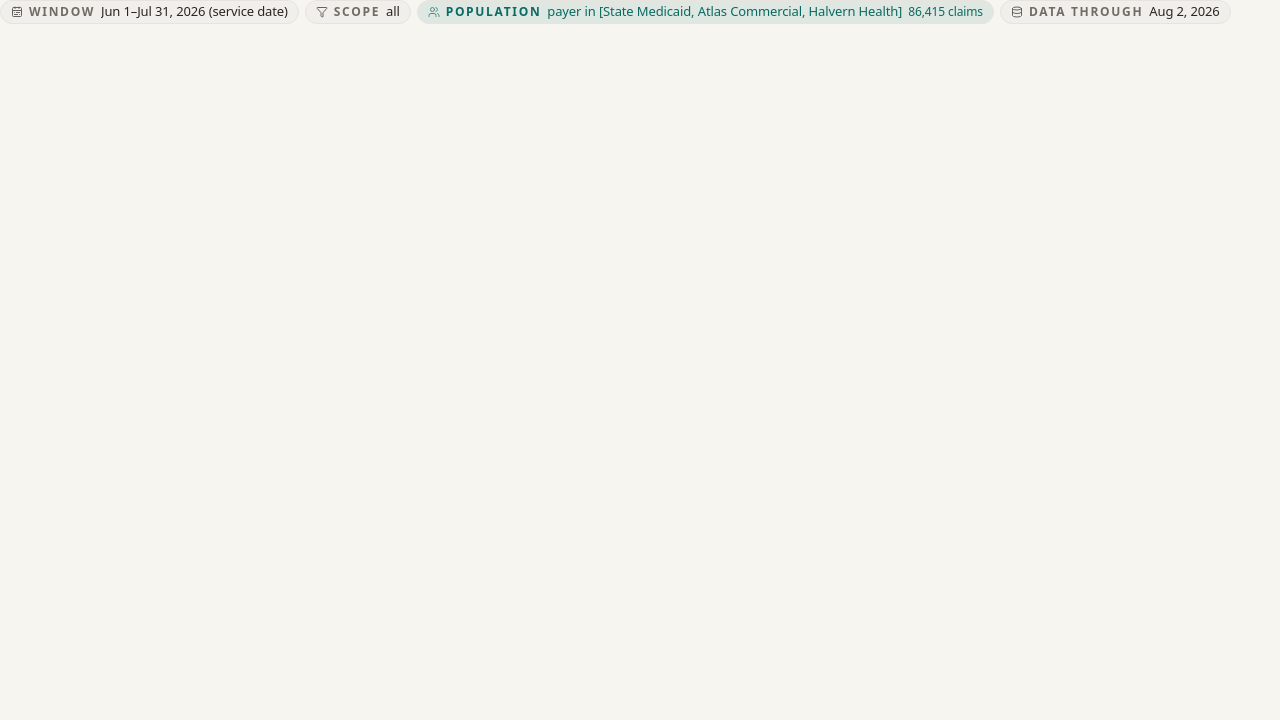
Test case: ContextHeader — the cohort chip › says an unpinned population is re-evaluated each time you ask
What coordinates should you click on to do the following:
click the button "Population"
I would click on:
 (705, 12)
Its box is [417, 0, 994, 24].
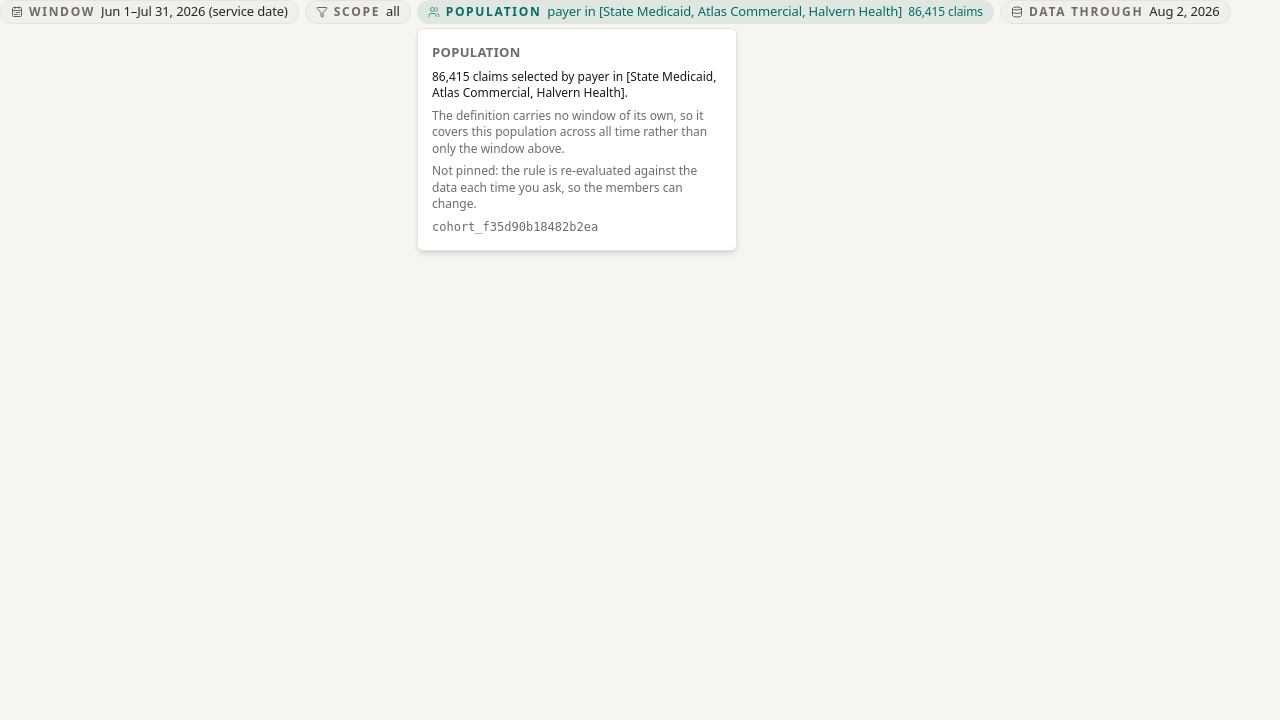
Now the text "the members can change" is shown, box [432, 162, 697, 212]
